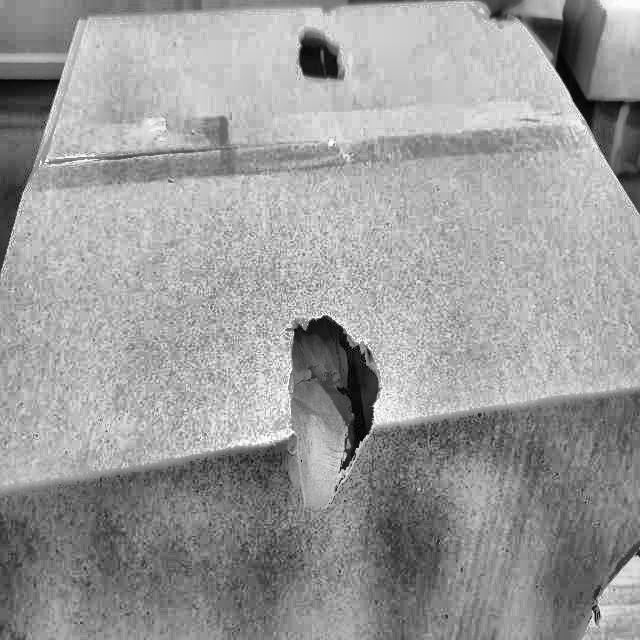box: (0, 0, 639, 639)
hole: (291, 322, 389, 474), (289, 11, 355, 95)
